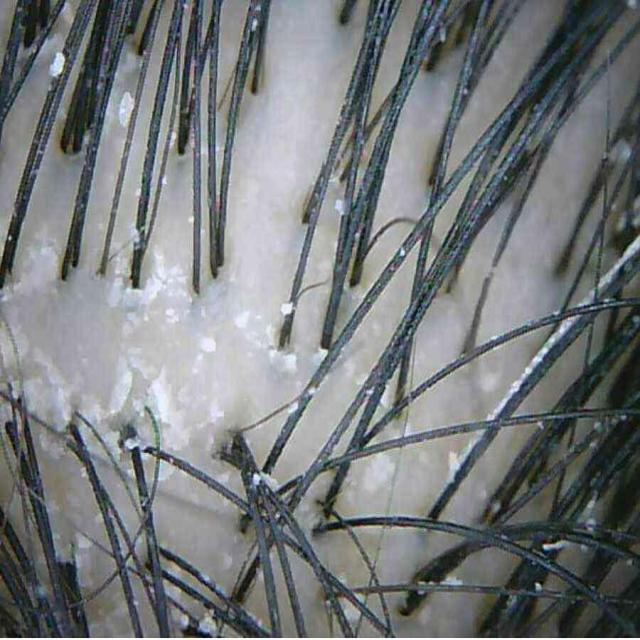d: (108, 246, 192, 325), (24, 348, 71, 428), (0, 303, 32, 351), (109, 357, 132, 414), (148, 367, 171, 423), (164, 403, 190, 451), (364, 453, 395, 492), (254, 474, 301, 494), (200, 396, 224, 428), (269, 350, 298, 375), (105, 428, 125, 463), (609, 138, 632, 164), (198, 612, 218, 638), (119, 92, 134, 125), (158, 460, 175, 484), (49, 52, 65, 77), (448, 450, 460, 477), (312, 348, 327, 368), (234, 310, 250, 328), (76, 533, 92, 550), (200, 338, 216, 352), (334, 199, 345, 215), (280, 303, 293, 316)
